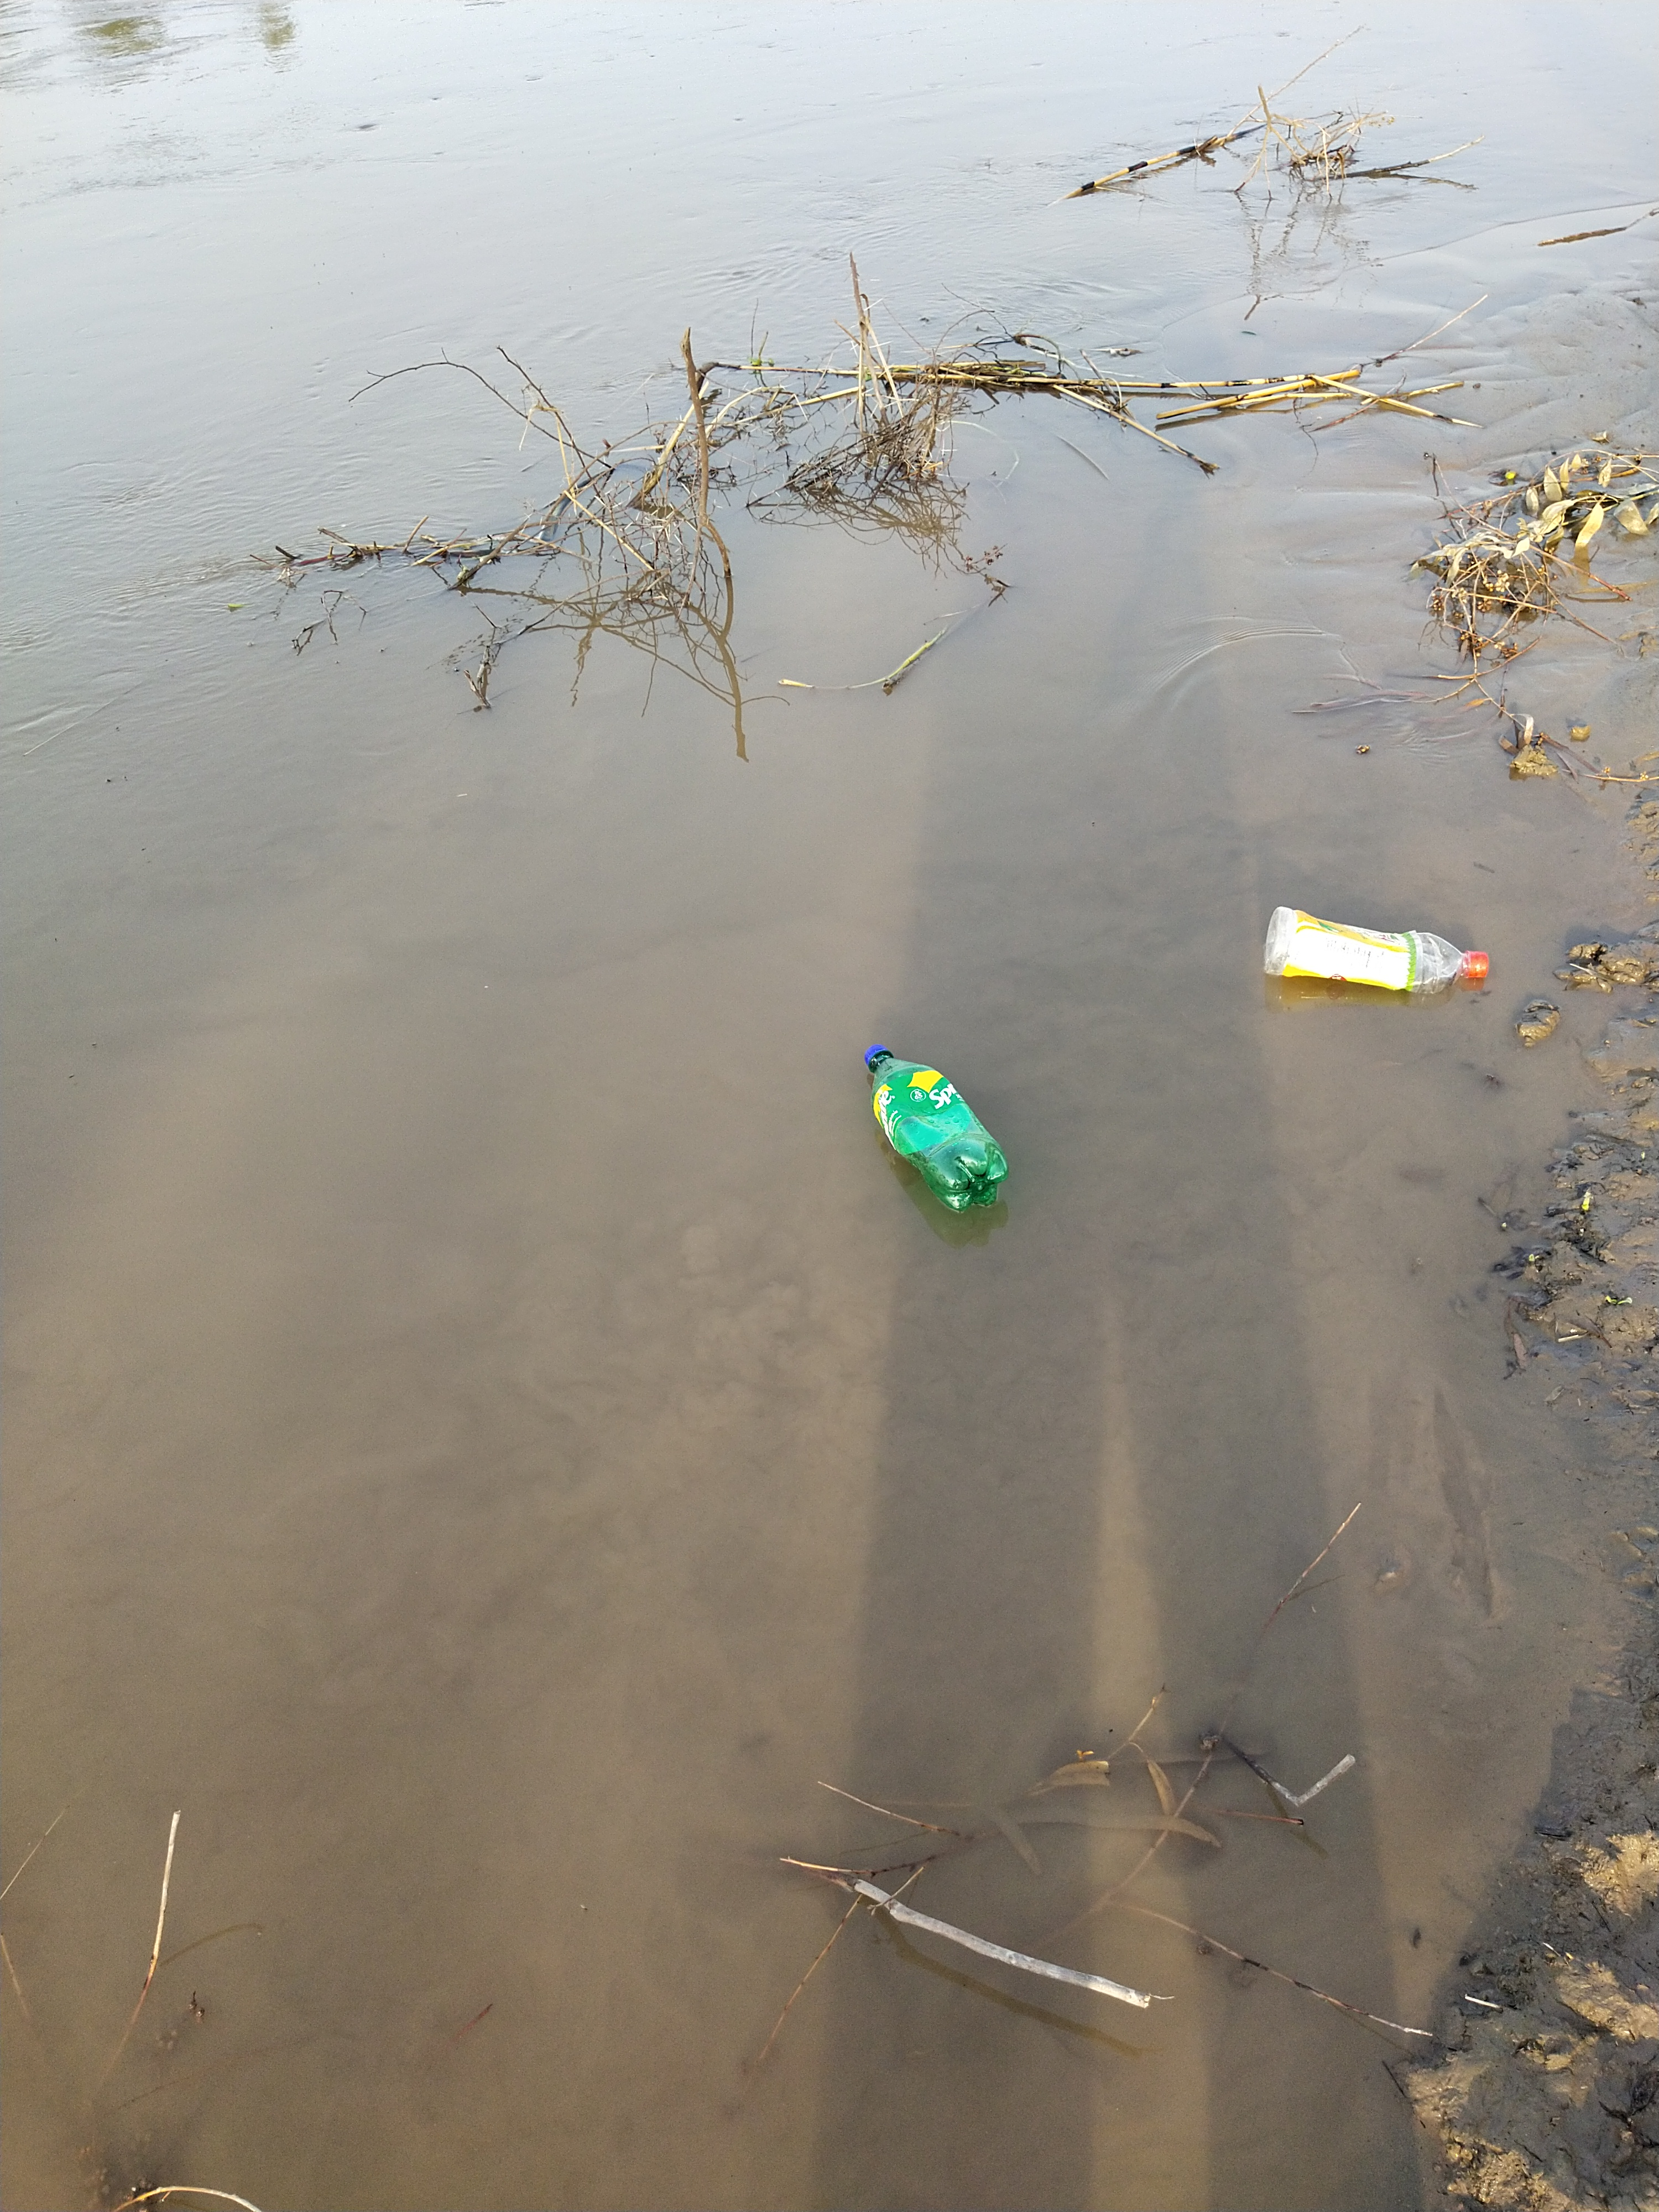Plastic Bottle: (866, 1045, 1006, 1216), (1262, 902, 1490, 995)
